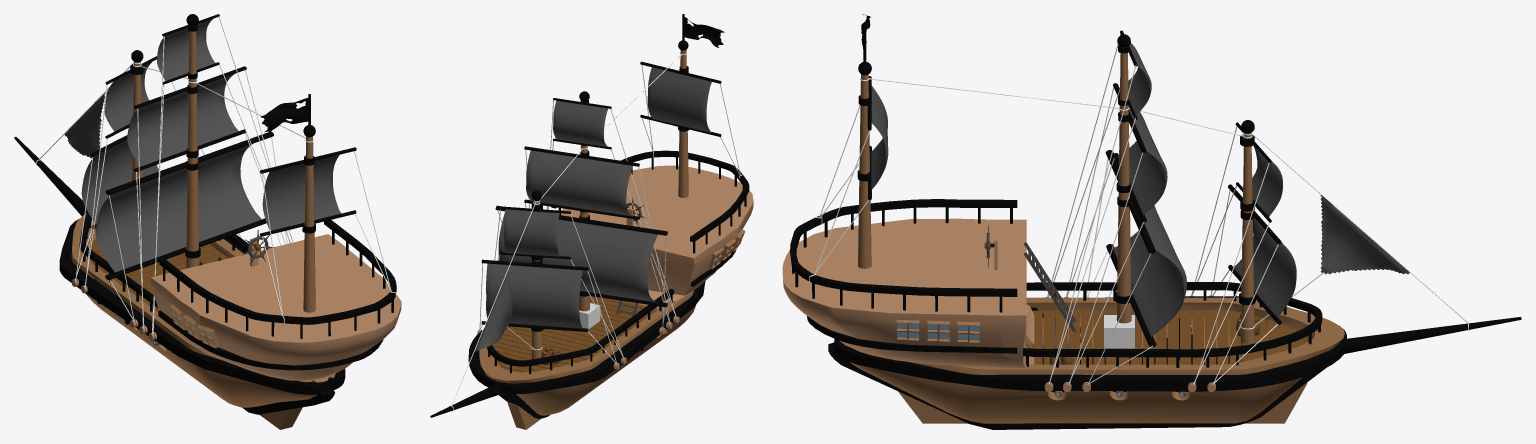
File: largeShip2.fbx
3 renders of one model, left to right at view 1: azimuth 30°, elevation 25°; view 2: azimuth 150°, elevation 25°; view 3: azimuth 270°, elevation 25°, orthographic. The views are drawn at different scales.
Parts seen in each view (by area): view 1: Polygon_Reduction_1; view 2: Polygon_Reduction_1, Cube; view 3: Polygon_Reduction_1, Cube.
Boxes of the visible parts, bbox=[...] form: Polygon_Reduction_1: bbox=[14, 14, 401, 429]; Polygon_Reduction_1: bbox=[430, 14, 753, 429]; Cube: bbox=[579, 303, 600, 329]; Polygon_Reduction_1: bbox=[782, 14, 1521, 429]; Cube: bbox=[1104, 315, 1134, 348].
Size of the model in its own units: 1533 by 2829 by 4768.
